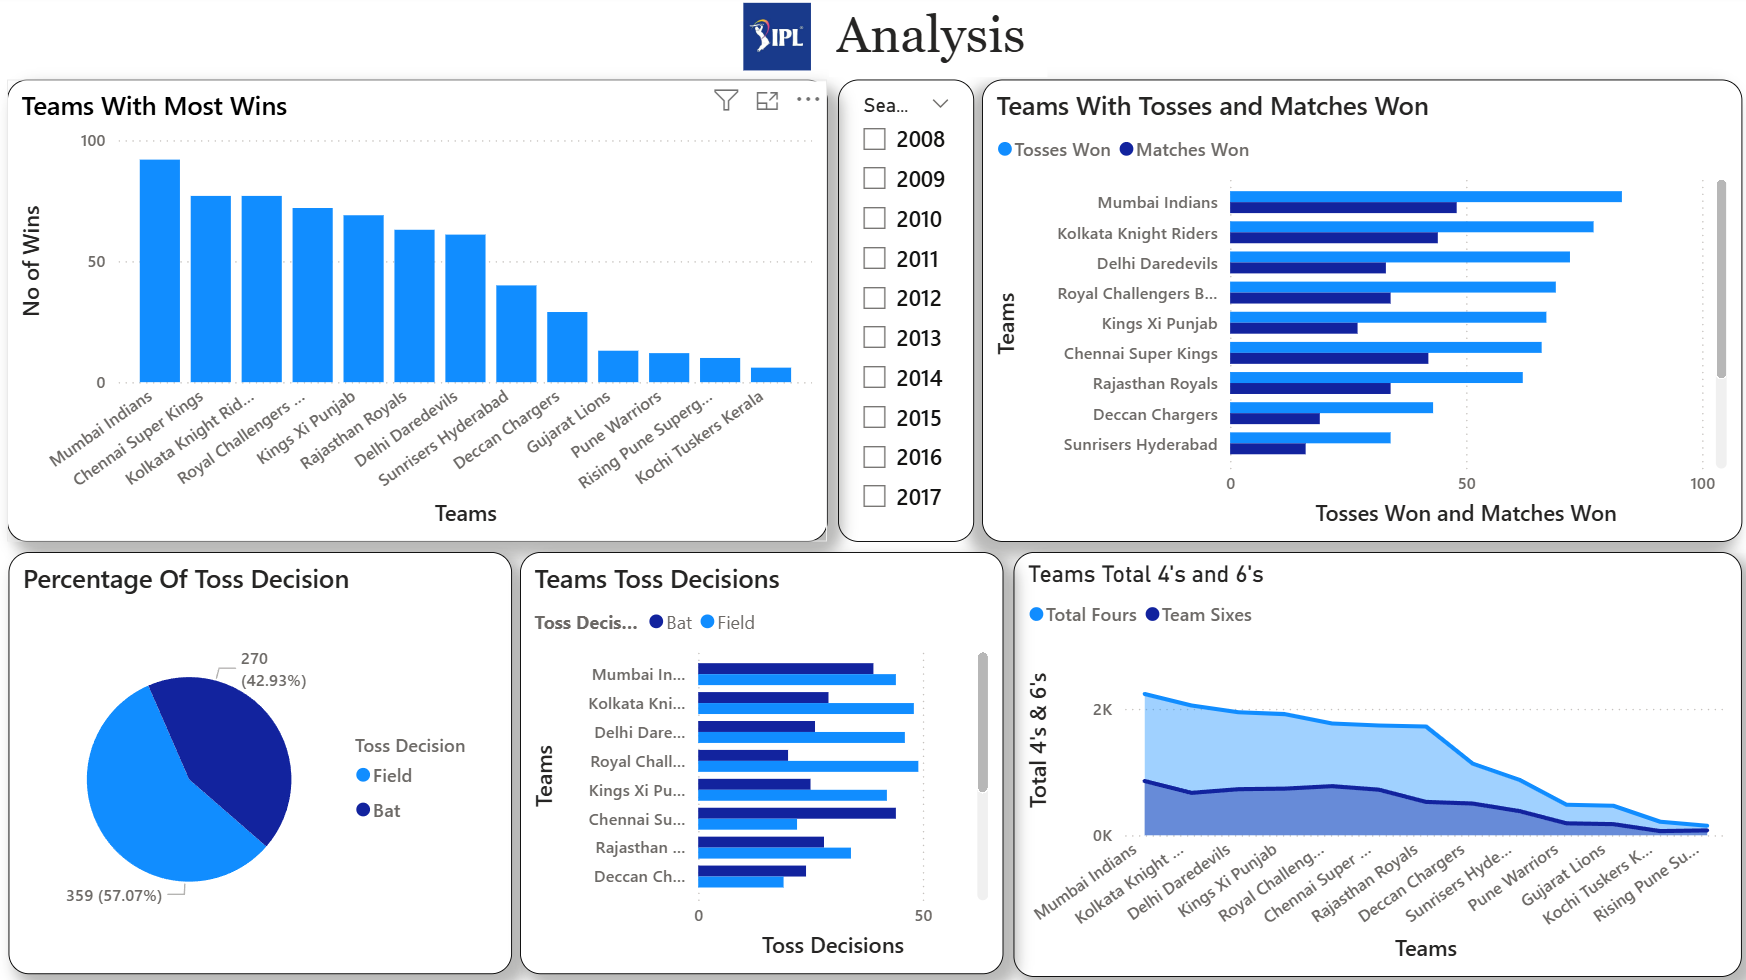

The dashboard page shown, as its layout file describes it:
{"tool":"powerbi","page":{"name":"Team_Stats","canvas":[1280,720],"ordinal":0},"visuals":[{"type":"clusteredBarChart","title":"Teams With Tosses and Matches Won","fields":{"Category":["Tosses_stats.toss_winner"],"Y":["Sum(Tosses_stats.TossesWon)","Sum(Tosses_stats.TossMatchesWon)"]},"box":[720.2,62.1,554.7,337.5],"z":0},{"type":"slicer","fields":{"Values":["matches_clean.season"]},"box":[615,62.1,99.6,337.5],"z":1000},{"type":"columnChart","title":"Teams With Most Wins","fields":{"Category":["matches_clean.winner"],"Y":["CountNonNull(matches_clean.id)"]},"box":[9.1,62.1,598.6,337.5],"z":2000},{"type":"areaChart","title":"Teams Total 4''s and 6''s","fields":{"Category":["Tosses_stats.toss_winner"],"Y":["deliveries_clean.Total Fours","deliveries_clean.Team Sixes"]},"box":[743,407,531,310.3],"z":3000},{"type":"pieChart","title":"Percentage Of Toss Decision","fields":{"Category":["matches_clean.toss_decision"],"Y":["CountNonNull(matches_clean.toss_decision)"]},"box":[10,407,367.2,307.7],"z":4000},{"type":"clusteredBarChart","title":"Teams Toss Decisions","fields":{"Category":["Tosses_stats.toss_winner"],"Series":["matches_clean.toss_decision"],"Y":["CountNonNull(matches_clean.toss_decision)"]},"box":[383,407,353,307.7],"z":5000},{"type":"image","box":[524.9,1.3,90.5,59.5],"z":6000},{"type":"textbox","box":[608.2,3,159.2,57.6],"z":7000}]}

Visuals, with their boxes in screenshot pixels (x1, y1, x2, y2), scaled from the page's 1280x720 canvas onto the 1746x980 screenshot:
"Teams With Tosses and Matches Won" clusteredBarChart: <box>982,85,1739,544</box>
slicer - matches_clean.season: <box>839,85,975,544</box>
"Teams With Most Wins" columnChart: <box>12,85,829,544</box>
"Teams Total 4''s and 6''s" areaChart: <box>1013,554,1738,976</box>
"Percentage Of Toss Decision" pieChart: <box>14,554,515,973</box>
"Teams Toss Decisions" clusteredBarChart: <box>522,554,1004,973</box>
image: <box>716,2,839,83</box>
textbox: <box>830,4,1047,82</box>
